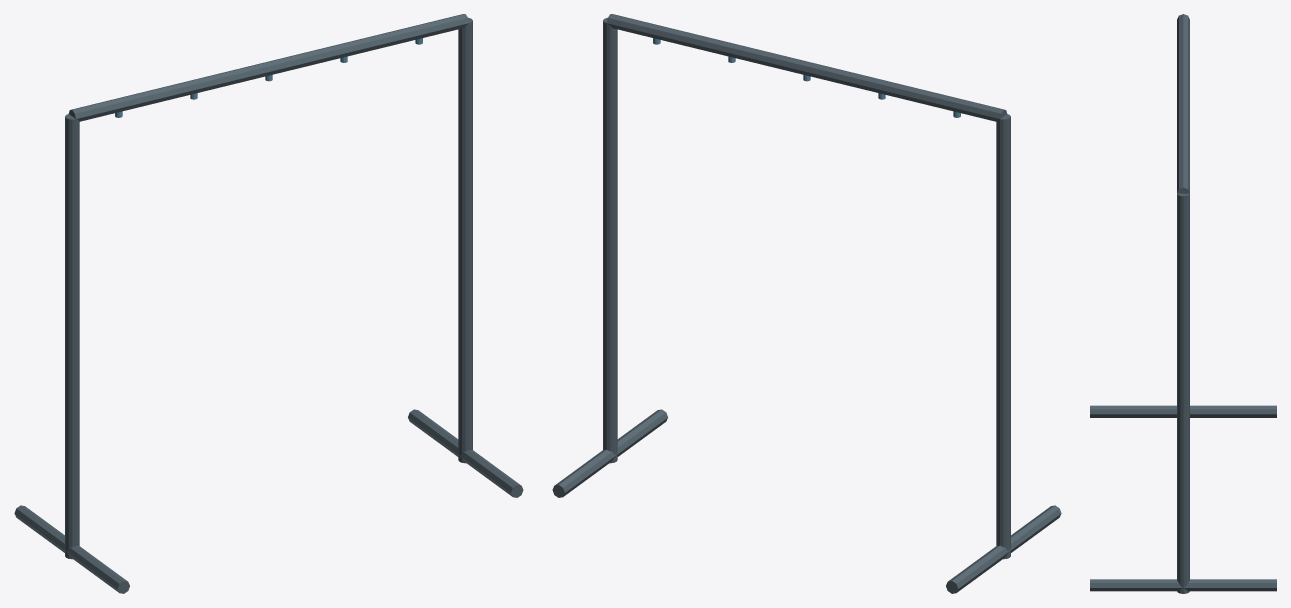
The model's file is american-football-stadium-kit-mist-arch-34dfcad5__22345.glb.
The picture shows the model from 3 angles, left to right: view 1: azimuth 30°, elevation 25°; view 2: azimuth 150°, elevation 25°; view 3: azimuth 270°, elevation 25°; orthographic projection. The views are drawn at different scales.
Parts seen in each view (by area): view 1: mist-arch; view 2: mist-arch; view 3: mist-arch.
Part boxes in pixels (x1,y1,x2,y2): mist-arch: (14,14,523,593); mist-arch: (552,14,1061,593); mist-arch: (1090,14,1276,593).
Size of the model in its own units: 2.27 by 2.38 by 0.9999.
